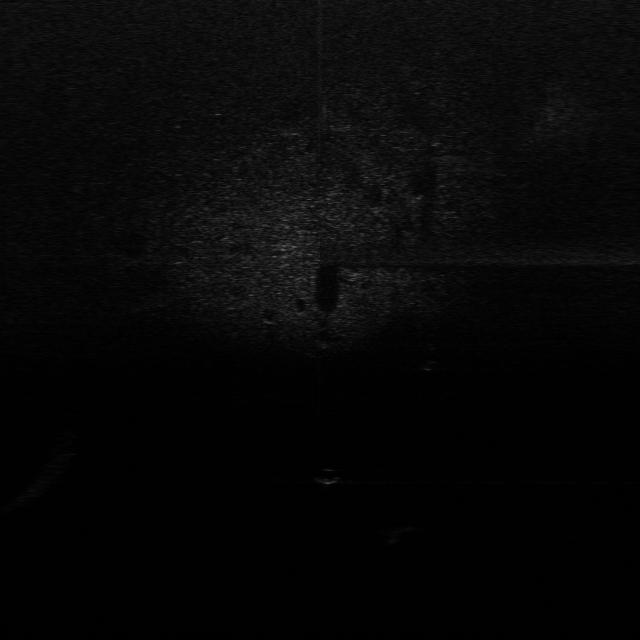ball: (312, 466, 346, 487)
square cage: (383, 524, 422, 546)
tyre: (418, 343, 449, 373)
